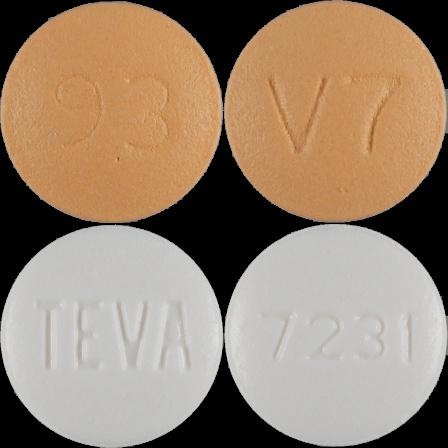0093-2063: (0, 0, 224, 224)
